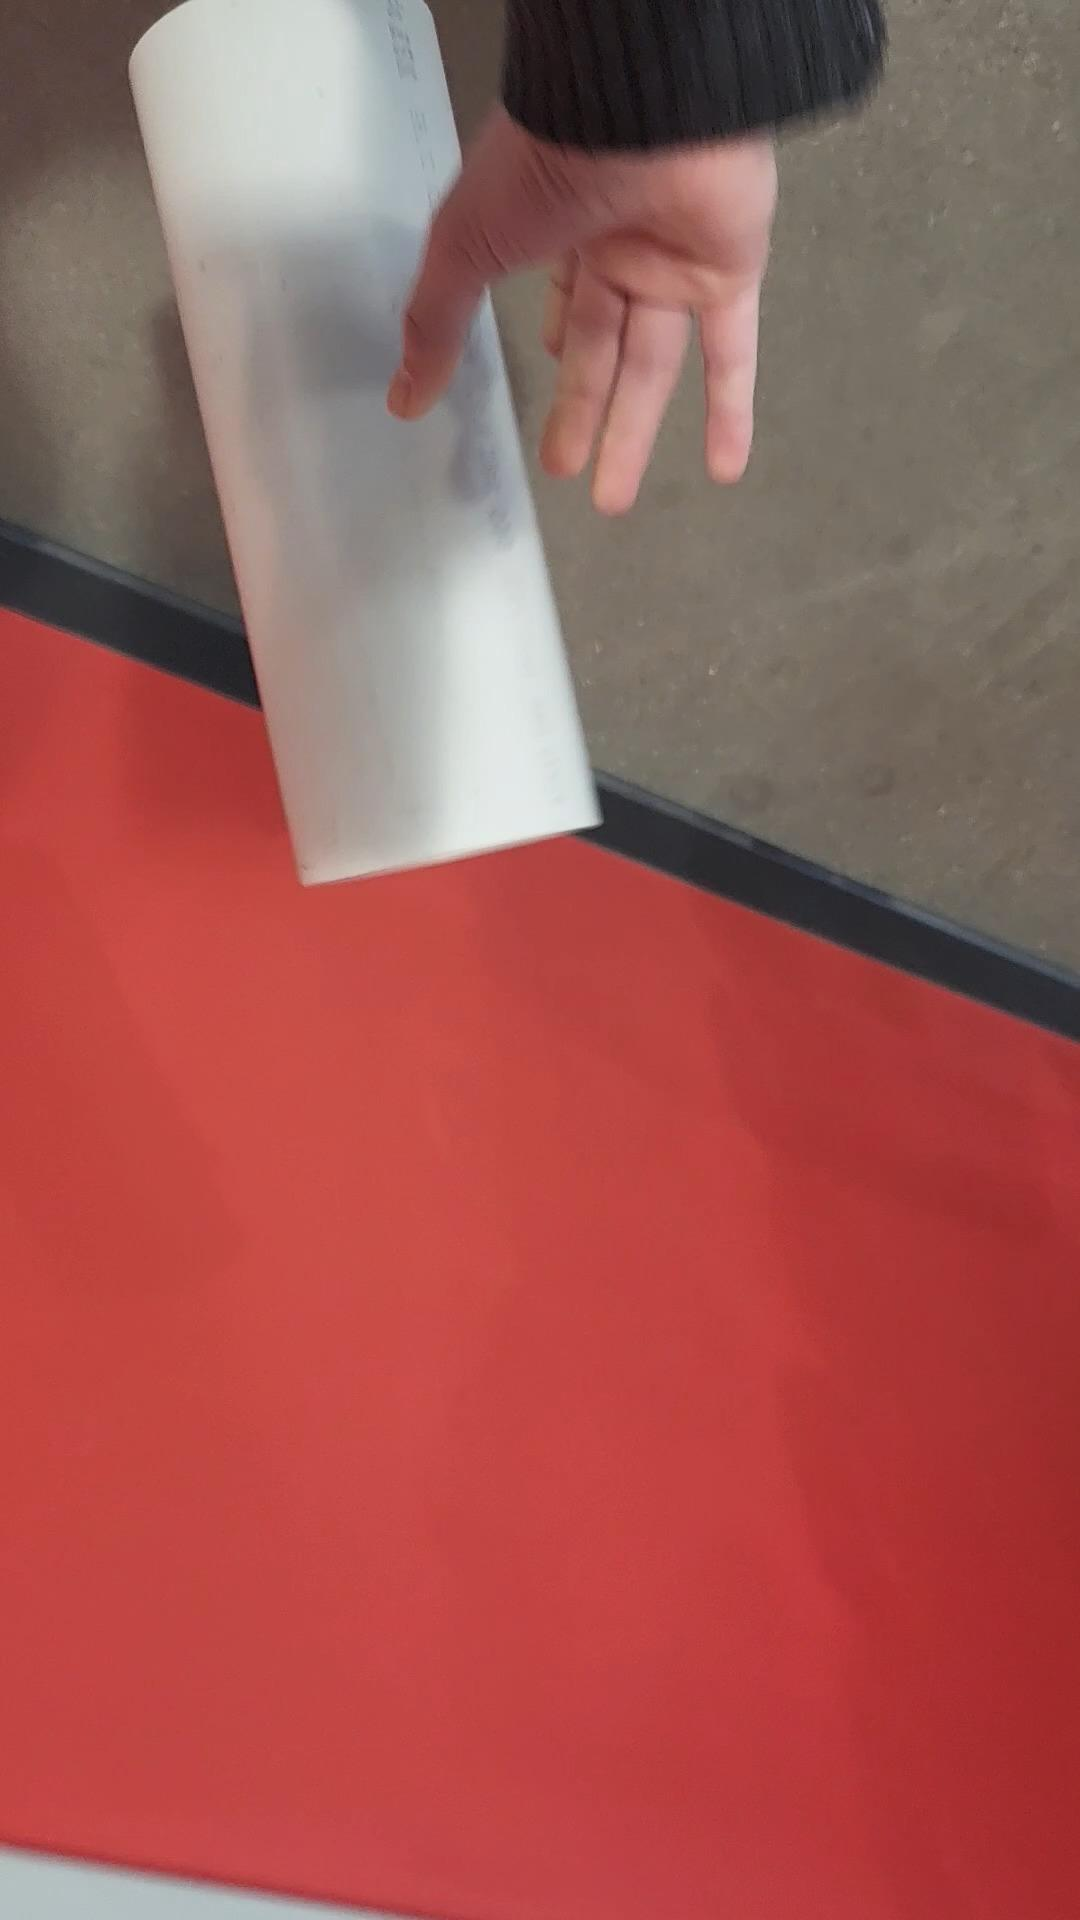coral: (113, 0, 613, 890)
